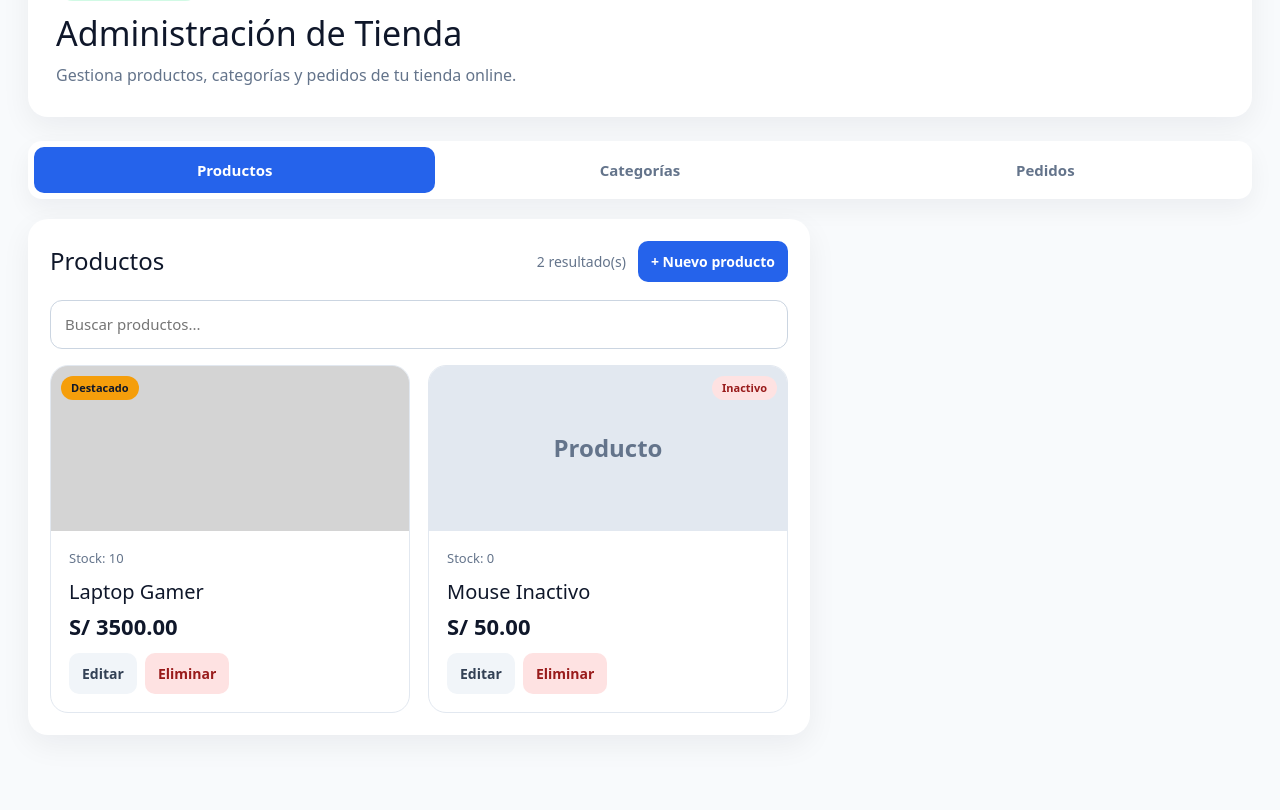
it: Tienda page › opens product form and validates required name
Expected: the heading "Laptop Gamer" is shown, [69,578,204,605]
Click the button "+ Nuevo producto" at (713, 262), box [638,241,788,282]
(page scrolled)
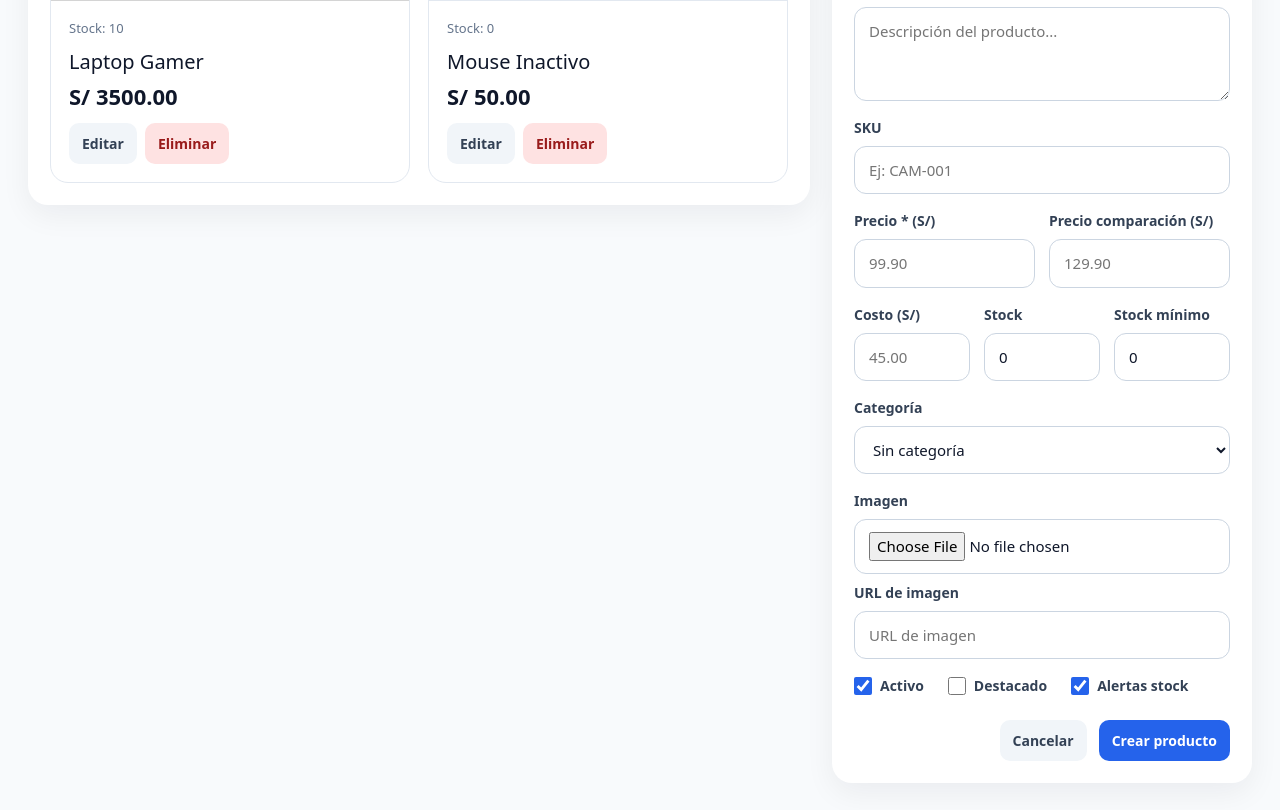
Click the button "Crear producto" at (1164, 741), box [1099,720,1230,761]
(page scrolled)
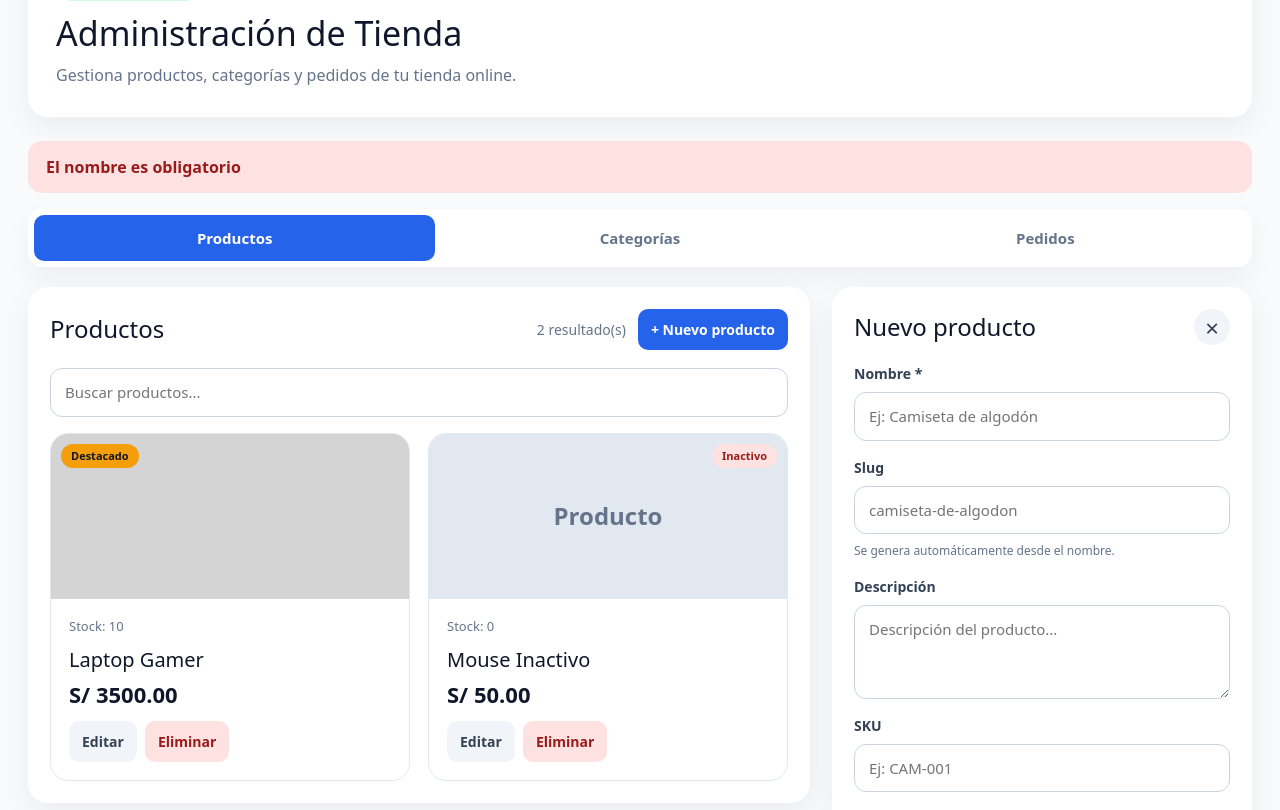
Expected: the text "El nombre es obligatorio" is shown, [28,141,1252,193]
